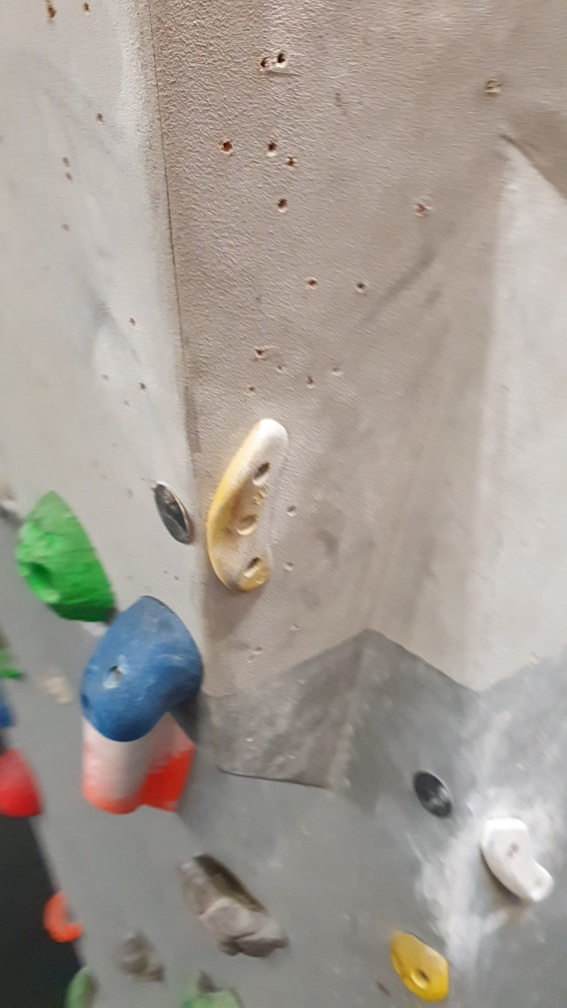Hand Start: (152, 477, 197, 550), (408, 768, 459, 818)
Jug: (172, 841, 292, 961)
Pinch: (81, 645, 198, 820)
